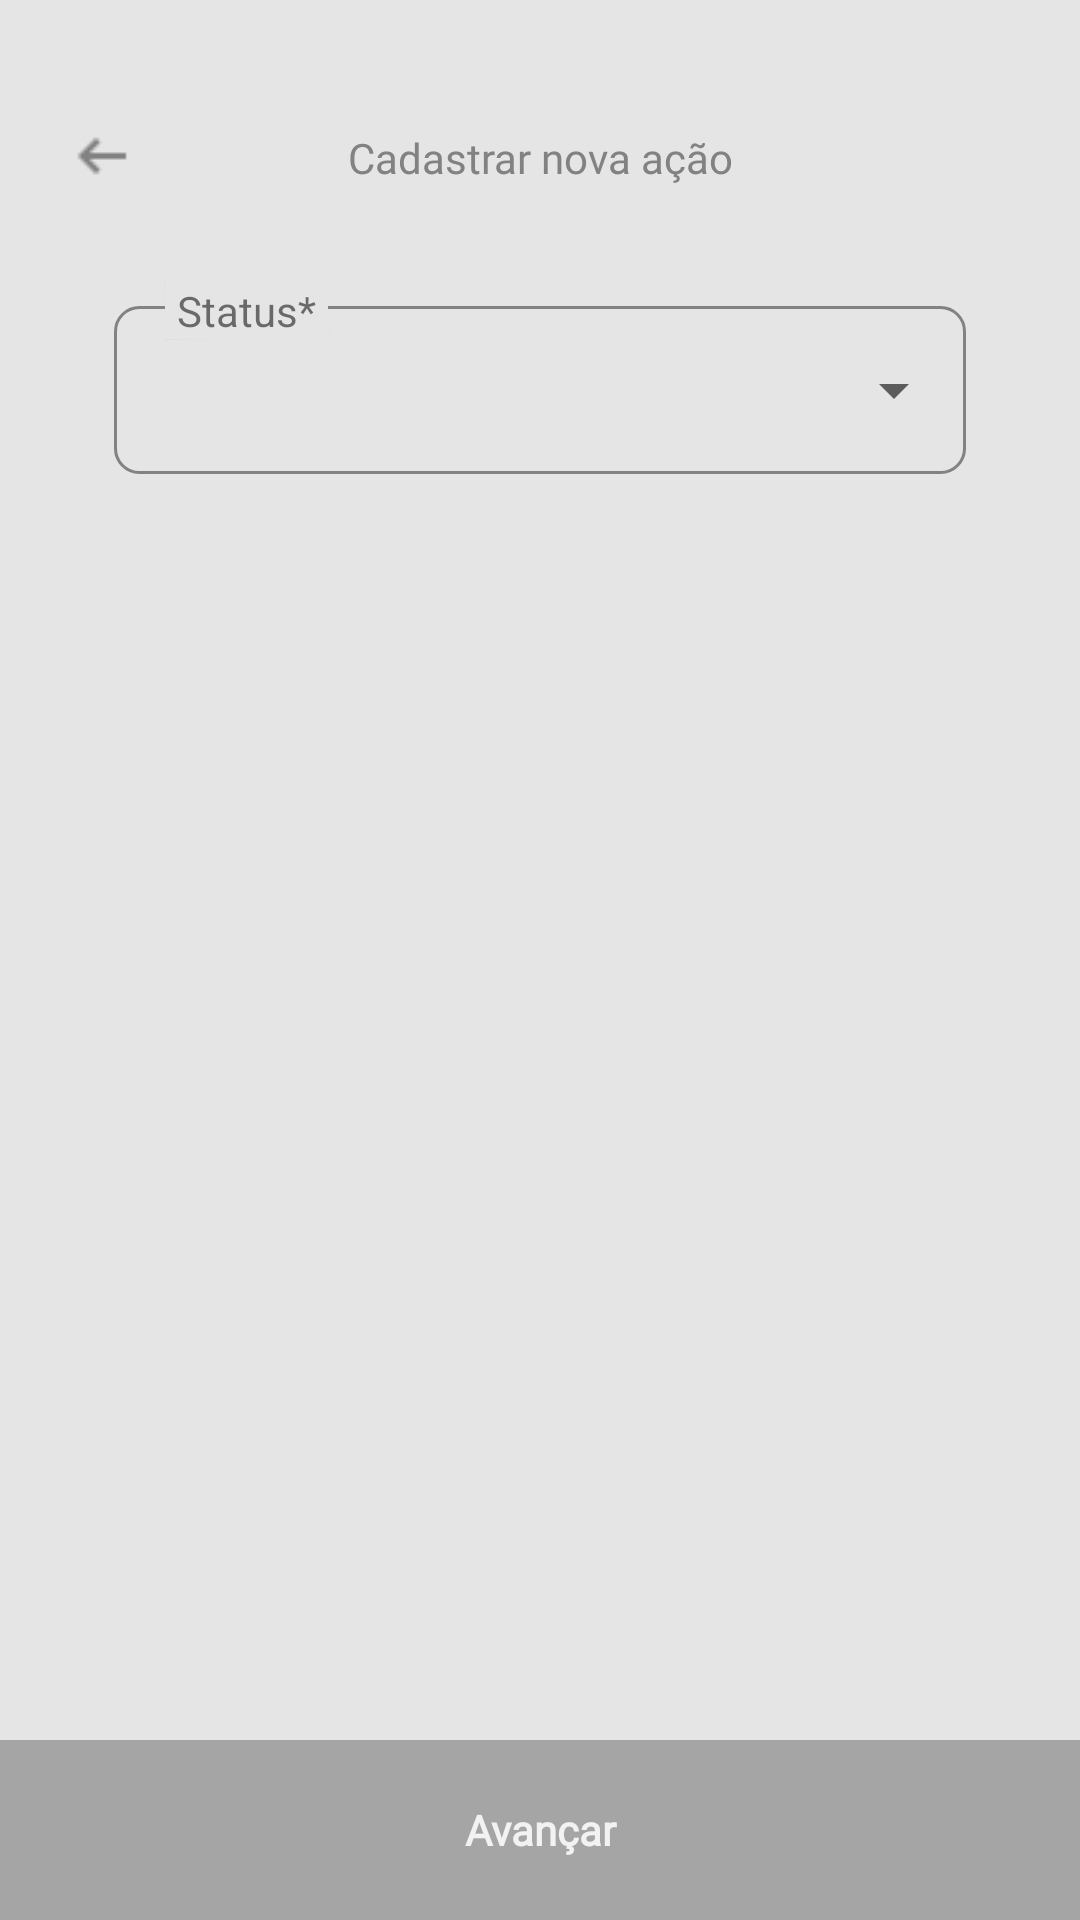

Icons on this 1080 × 1920 Android screen, each with the point to tap as [x,y]:
voltar: [102,156]
